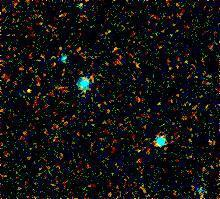star: (16, 77, 46, 107)
